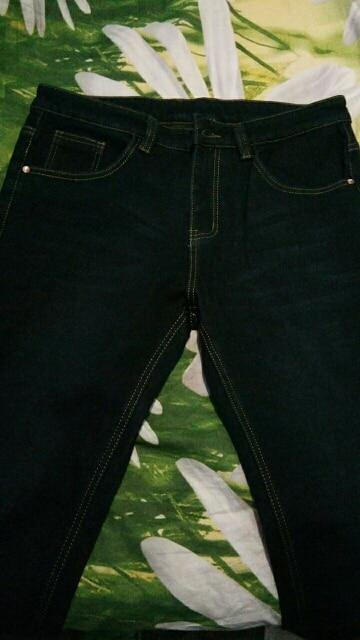jeans: (12, 85, 360, 621)
